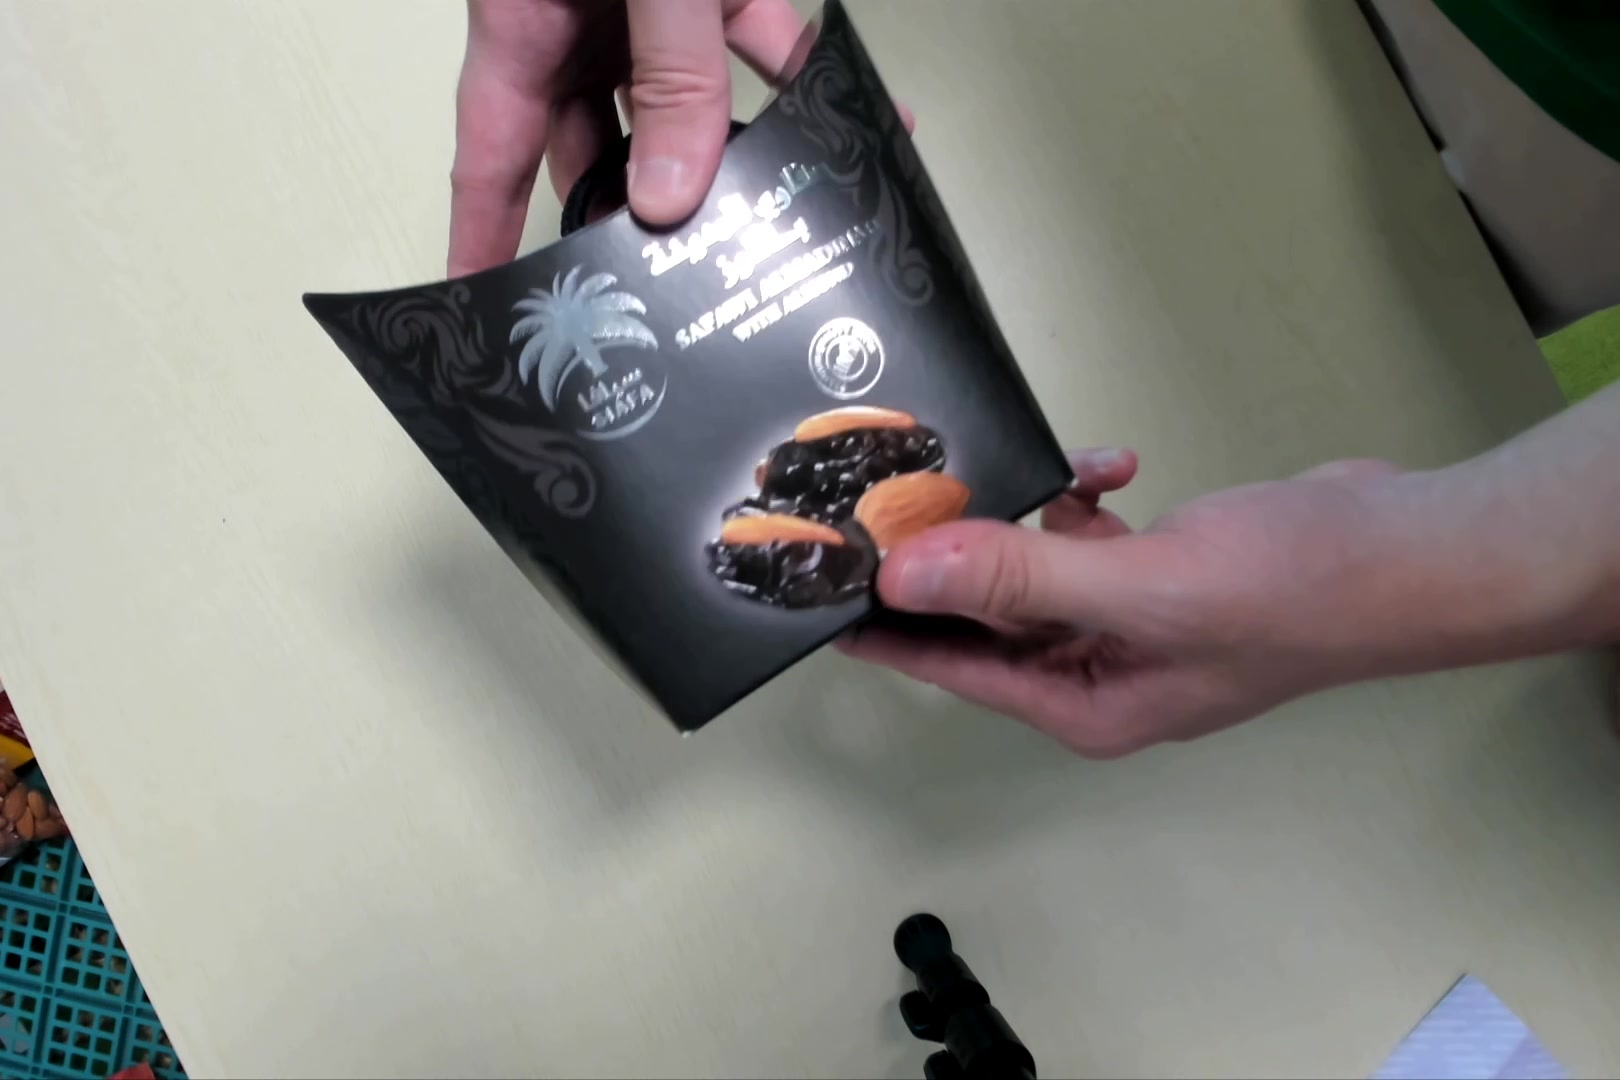DriedFood_100-199g_NonHalal_NonHealthy: (307, 20, 1082, 730)
